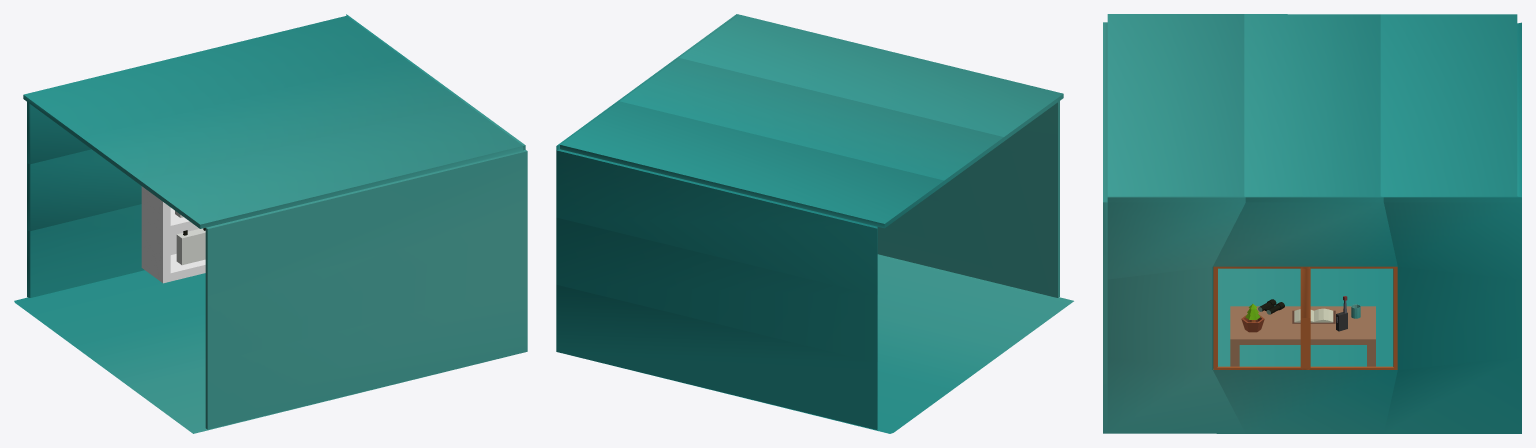
The model's file is Selector de mapa.fbx.
The picture shows the model from 3 angles, left to right: view 1: azimuth 30°, elevation 25°; view 2: azimuth 150°, elevation 25°; view 3: azimuth 270°, elevation 25°; orthographic projection. The views are drawn at different scales.
Parts seen in each view (by area): view 1: Plane.006, Cube.003, Cube.010; view 2: Plane.006; view 3: Plane.006, Cube, Plane.007, Cube.014, Cylinder.
Boxes of the visible parts, x1,y1,x2,y2 form: Plane.006: (14, 14, 527, 433); Cube.003: (141, 186, 205, 283); Cube.010: (176, 228, 205, 265); Plane.006: (556, 14, 1073, 433); Plane.006: (1103, 14, 1521, 433); Cube: (1230, 306, 1375, 366); Plane.007: (1213, 266, 1397, 369); Cube.014: (1292, 308, 1335, 323); Cylinder: (1241, 304, 1264, 332).
Bounding box in the file's own units: 1128 × 663 × 1059.
